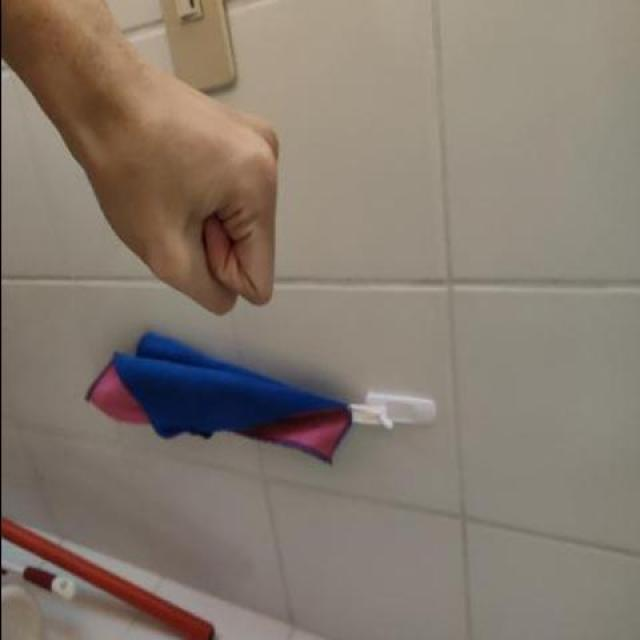Closed Hand: (0, 11, 295, 321)
